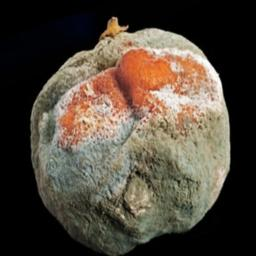Orange Rotten: (10, 11, 243, 251)
